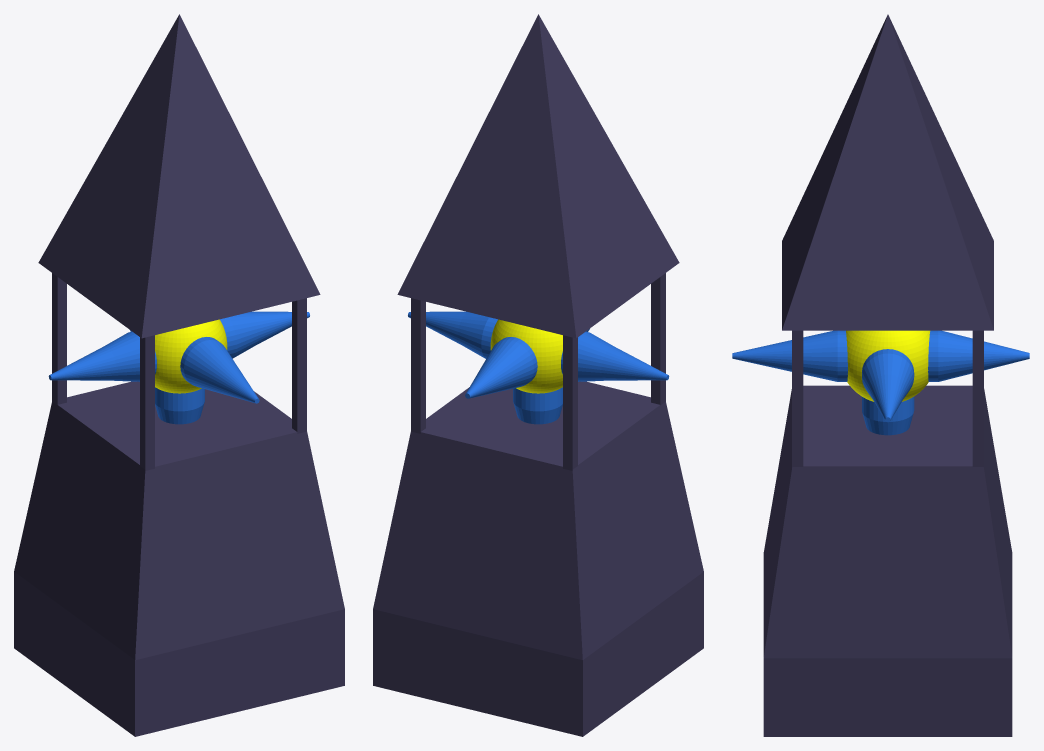
The model's file is TowerLighMag.fbx.
3 renders of one model, left to right at view 1: azimuth 30°, elevation 25°; view 2: azimuth 150°, elevation 25°; view 3: azimuth 270°, elevation 25°, orthographic. The views are drawn at different scales.
Parts seen in each view (by area): view 1: Tower, Roof, Colones, Cylinder.001, Cylinder.002, Sphere, Cylinder; view 2: Tower, Roof, Colones, Cylinder.001, Cylinder.002, Sphere, Cylinder; view 3: Tower, Roof, Cylinder.002, Sphere, Colones, Cylinder.001, Cylinder.
Part boxes in pixels (x1,y1,x2,y2): Tower: (14, 381, 344, 736); Roof: (38, 14, 320, 338); Colones: (52, 273, 306, 470); Cylinder.001: (48, 311, 309, 381); Cylinder.002: (130, 330, 259, 403); Sphere: (155, 319, 227, 393); Cylinder: (155, 387, 204, 424); Tower: (373, 381, 703, 736); Roof: (397, 14, 679, 338); Colones: (411, 273, 665, 470); Cylinder.001: (408, 311, 669, 381); Cylinder.002: (465, 328, 589, 398); Sphere: (490, 319, 562, 393); Cylinder: (513, 387, 562, 424); Tower: (763, 385, 1012, 736); Roof: (782, 14, 993, 330); Cylinder.002: (732, 330, 1029, 381); Sphere: (846, 330, 930, 401); Colones: (792, 330, 983, 467); Cylinder.001: (862, 349, 914, 422); Cylinder: (862, 396, 914, 435).
Bounding box in the file's own units: 345 × 833 × 335.
